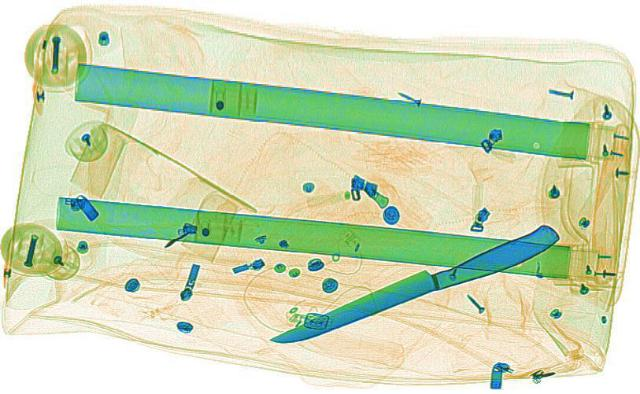Knife: (254, 221, 572, 348)
